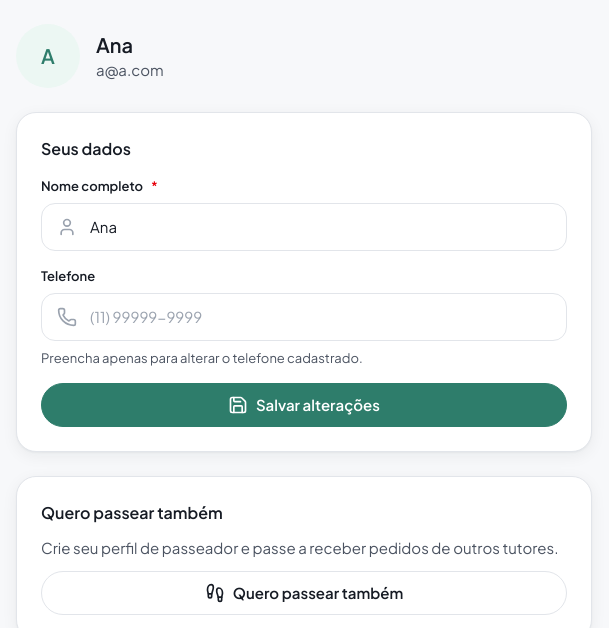
it: ProfileView - quero passear também › limpa o erro do campo quando ele muda
Click the button "Quero passear também". click: (304, 593)
box: [41,571,567,615]
(page scrolled)
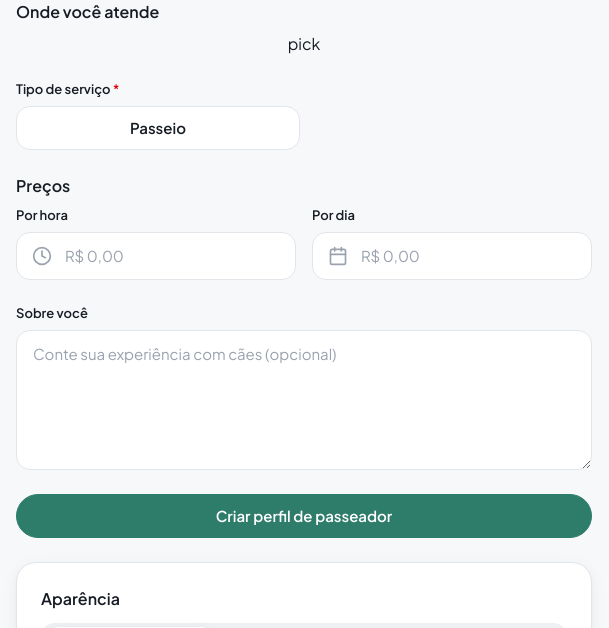
Click the button "Criar perfil de passeador". click: (304, 516)
box: [16,494,592,538]
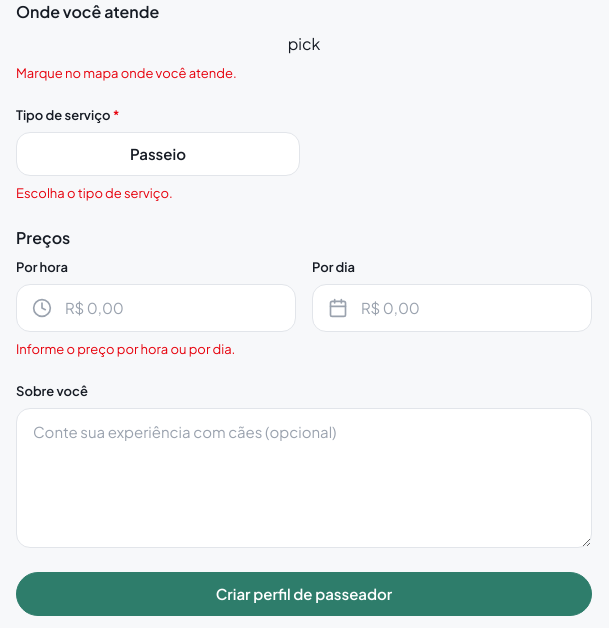
Check: the text "Marque no mapa onde você atende." is shown, box [16,65,237,81]
Click the button with test id "pick". click: (304, 44)
box: [16,32,592,56]
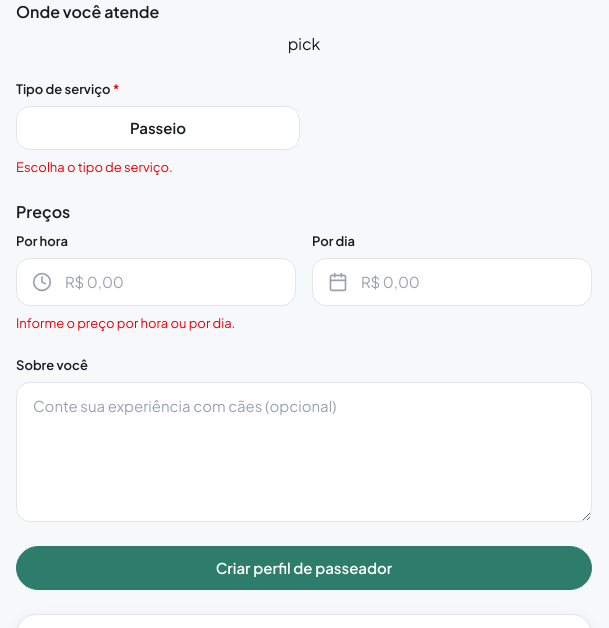
Check: the text "Marque no mapa onde você atende." is gone
